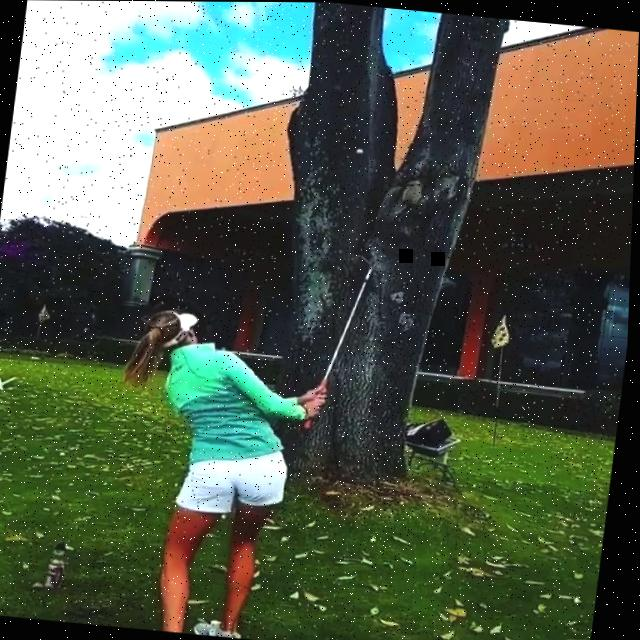ClubHead: (357, 253, 377, 267)
